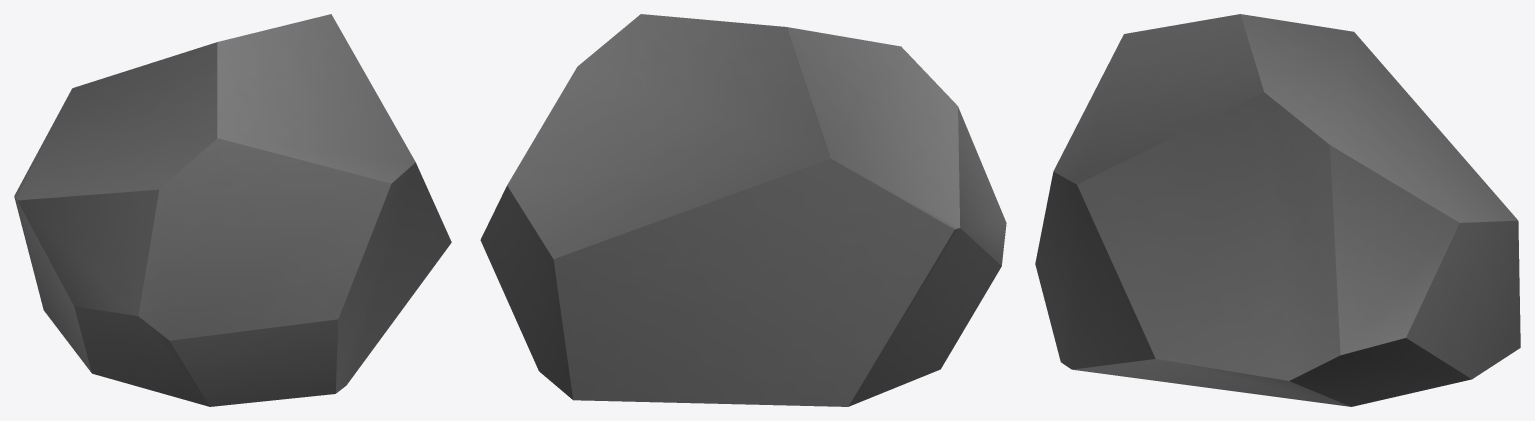
Rendered from pack02_rocks_08.fbx.
3 renders of one model, left to right at view 1: azimuth 30°, elevation 25°; view 2: azimuth 150°, elevation 25°; view 3: azimuth 270°, elevation 25°, orthographic. The views are drawn at different scales.
Parts seen in each view (by area): view 1: Rock Type2 04 mesh; view 2: Rock Type2 04 mesh; view 3: Rock Type2 04 mesh.
Part boxes in pixels (x1,y1,x2,y2): Rock Type2 04 mesh: (14,14,451,406); Rock Type2 04 mesh: (480,14,1006,406); Rock Type2 04 mesh: (1035,14,1520,406).
Size of the model in its own units: 81.01 by 57.17 by 76.51.
1 material, 1 textured.
